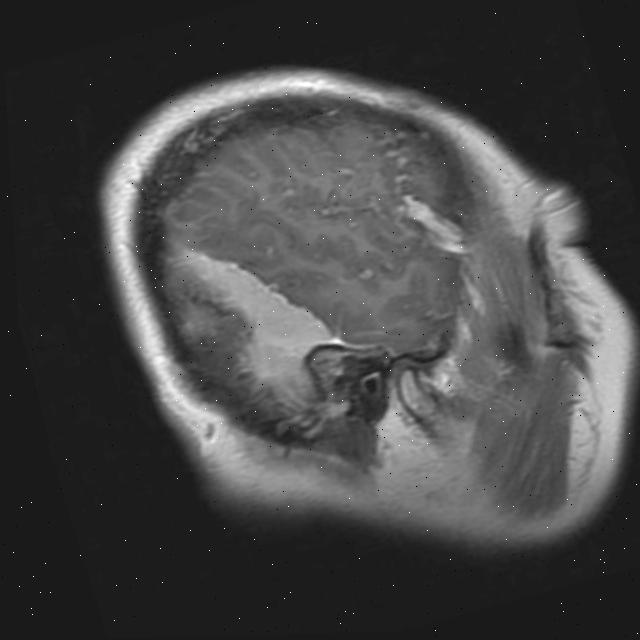Meningioma: (178, 209, 347, 393)
